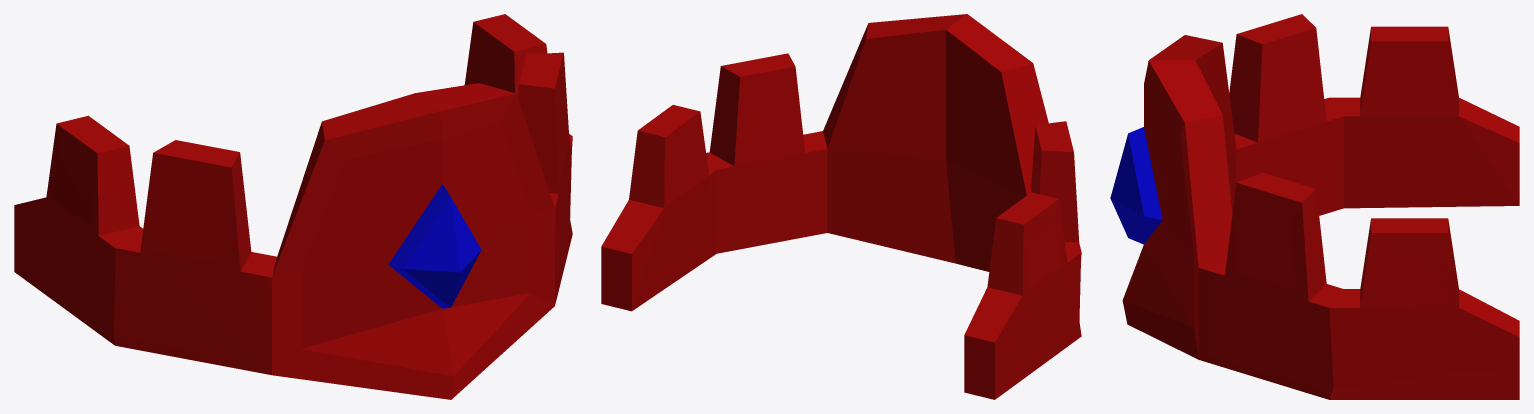
The model's file is Chr_HelmetAttachment_Static_08.fbx.
The picture shows the model from 3 angles, left to right: view 1: azimuth 30°, elevation 25°; view 2: azimuth 150°, elevation 25°; view 3: azimuth 270°, elevation 25°; orthographic projection. The views are drawn at different scales.
Visible parts, largest first — view 1: Chr_HelmetAttachment_08; view 2: Chr_HelmetAttachment_08; view 3: Chr_HelmetAttachment_08.
Part boxes in pixels (left/top/right/bottom): Chr_HelmetAttachment_08: left=14, top=14, right=572, bottom=399; Chr_HelmetAttachment_08: left=601, top=14, right=1081, bottom=399; Chr_HelmetAttachment_08: left=1110, top=14, right=1519, bottom=399.
Bounding box in the file's own units: 27.93 × 16.35 × 22.97.
